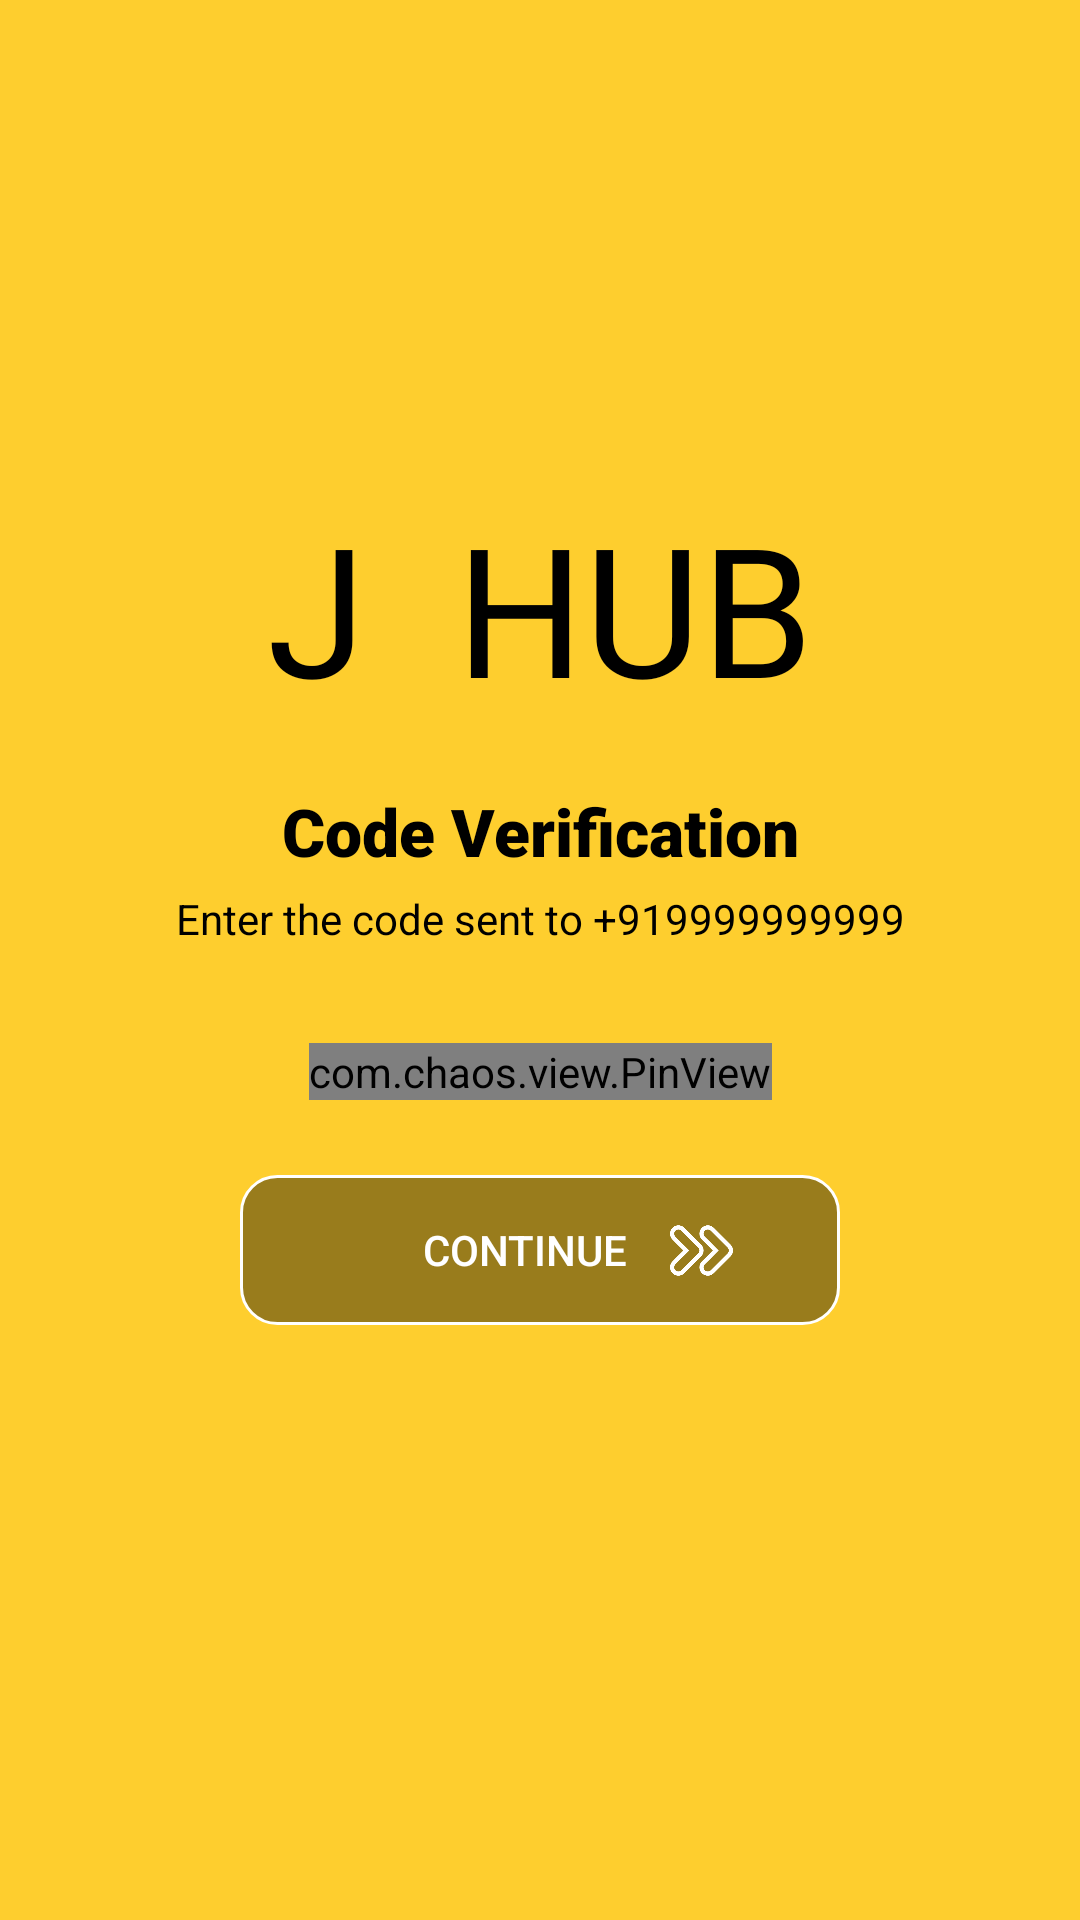

Named icons in this screenshot (1080x1920) and their bounding boxes, detection(x1, y1, x2, y2):
next: detection(670, 1225, 733, 1276)
